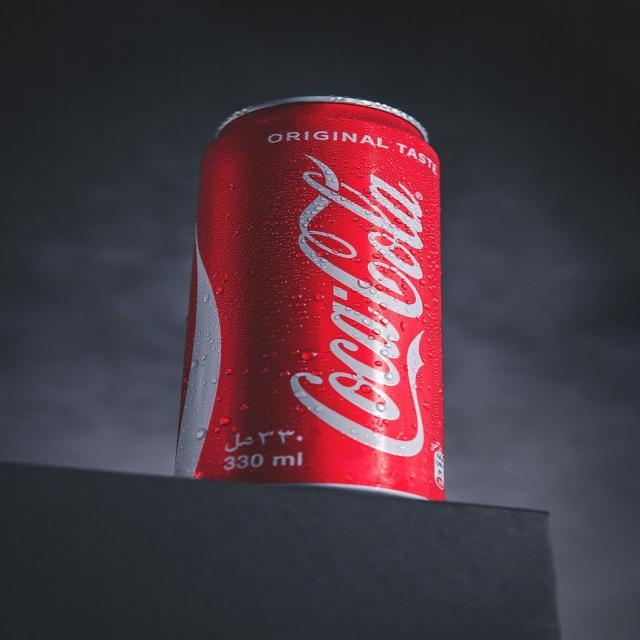Coke: (170, 95, 447, 503)
